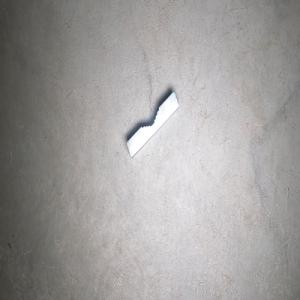ClampPart: (126, 90, 179, 158)
